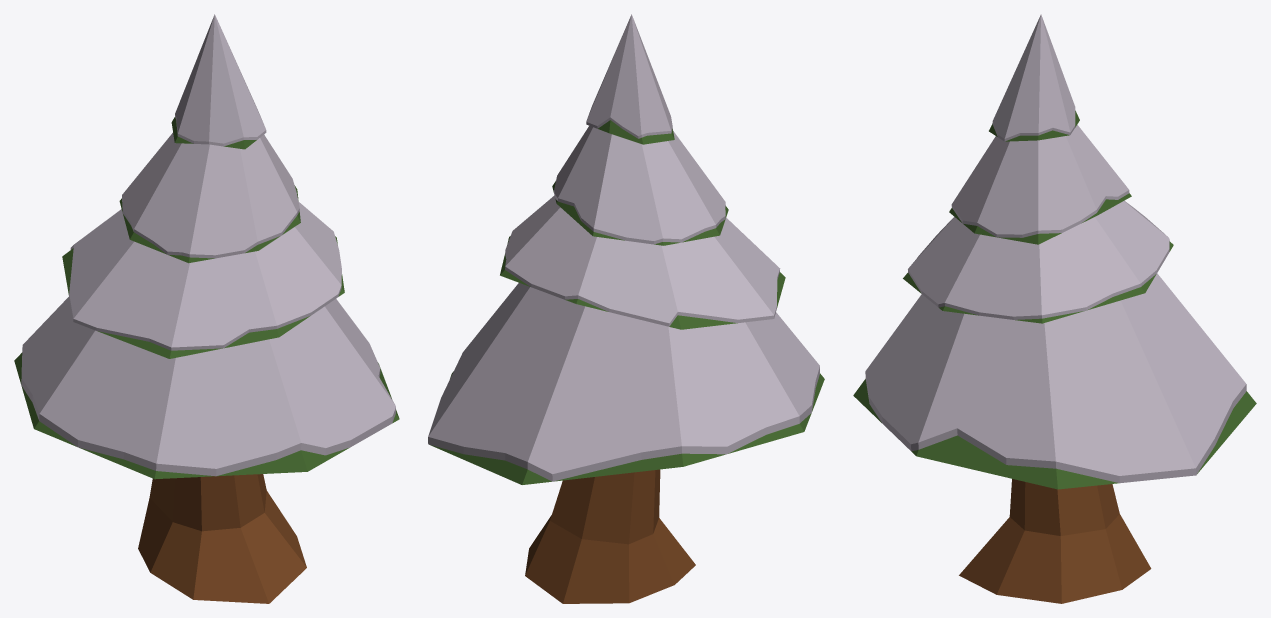
File: SNOW TREE 3.fbx
3 renders of one model, left to right at view 1: azimuth 30°, elevation 25°; view 2: azimuth 150°, elevation 25°; view 3: azimuth 270°, elevation 25°, orthographic.
Visible parts, largest first — view 1: SNOW PINE TREE 2; view 2: SNOW PINE TREE 2; view 3: SNOW PINE TREE 2.
Boxes of the visible parts, bbox=[...] form: SNOW PINE TREE 2: bbox=[14, 14, 399, 603]; SNOW PINE TREE 2: bbox=[428, 14, 824, 603]; SNOW PINE TREE 2: bbox=[853, 14, 1256, 603].
Bounding box in the file's own units: 497 × 764 × 503.
